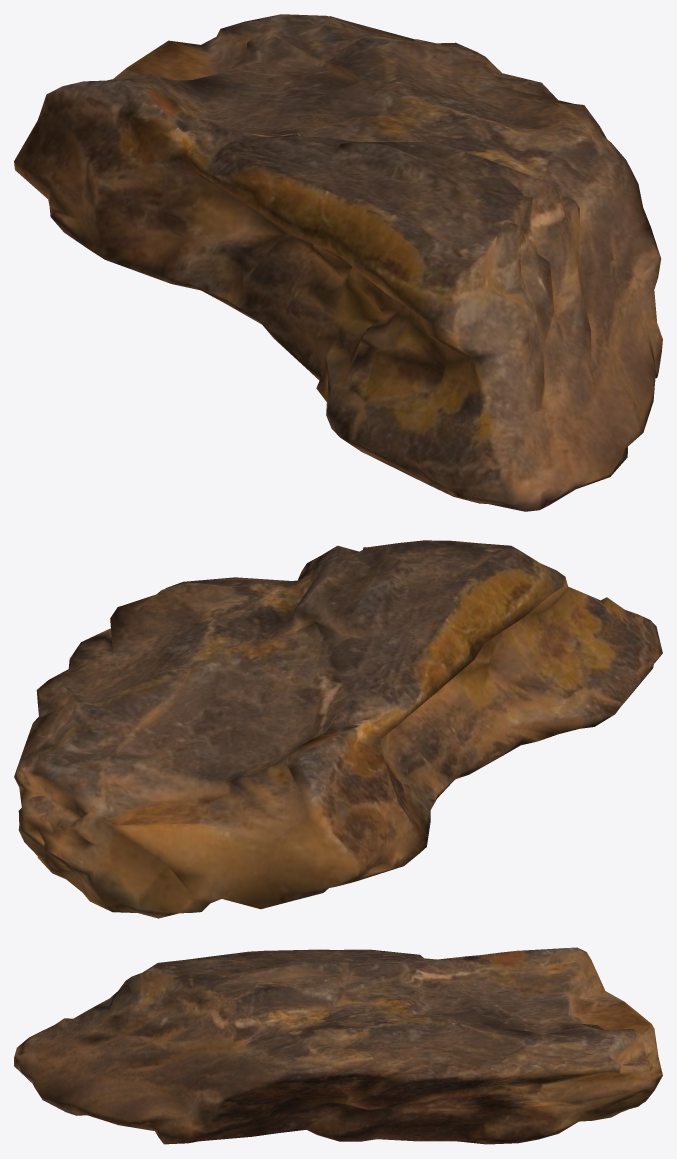
The model's file is boulder.glb.
3 views of the same model, one above another, from view 1: azimuth 30°, elevation 25°; view 2: azimuth 150°, elevation 25°; view 3: azimuth 270°, elevation 25° (orthographic). The views are drawn at different scales.
Parts seen in each view (by area): view 1: body; view 2: body; view 3: body.
Boxes of the visible parts, x1,y1,x2,y2 form: body: (14,14,662,511); body: (14,540,662,918); body: (14,947,662,1144).
Size of the model in its own units: 2.24 by 0.991 by 4.4.
Materials: 1 (1 with a texture image).
